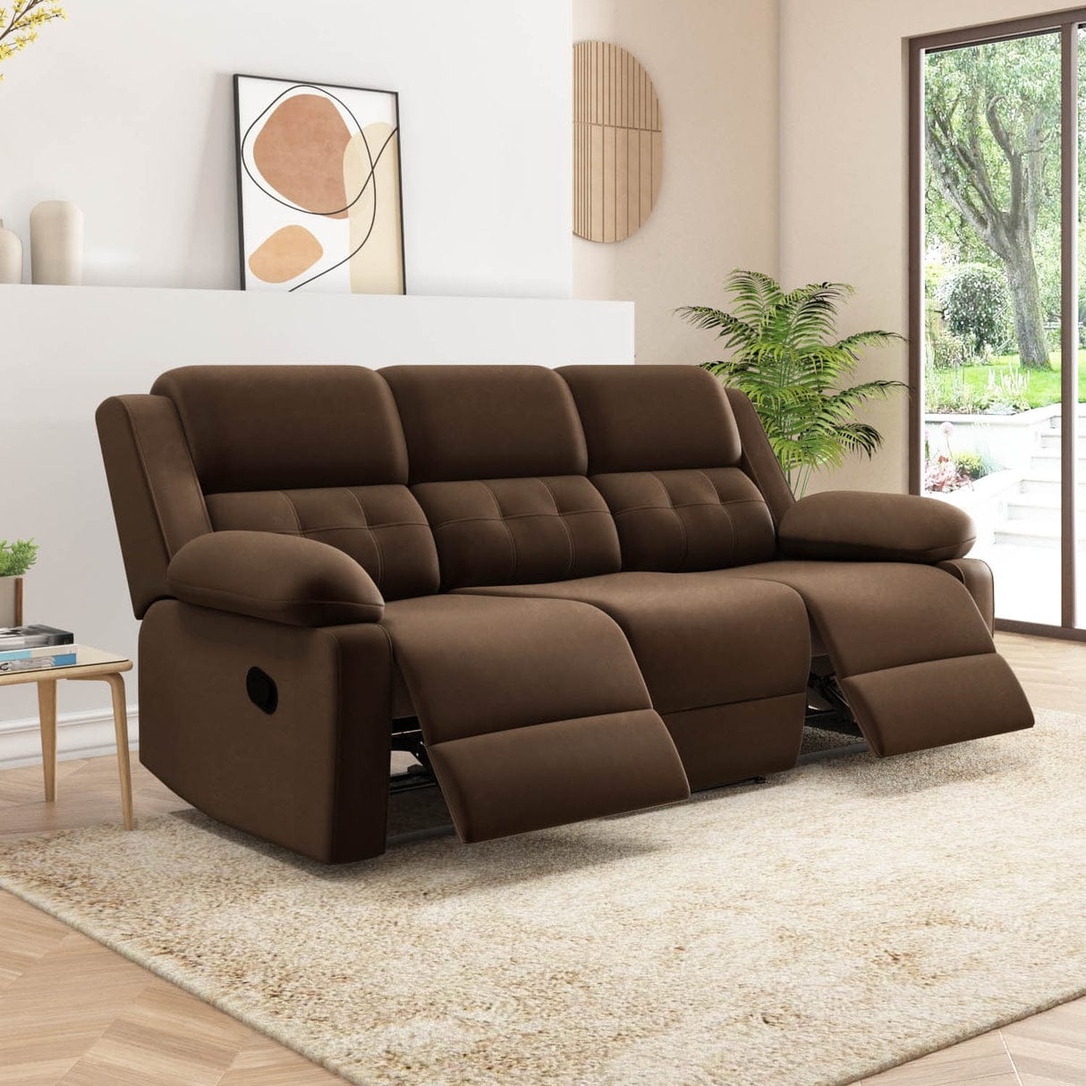3seatersofa: (97, 365, 1031, 862)
backrest: (153, 365, 774, 600)
leftarmrest: (727, 389, 975, 564)
leg: (140, 599, 392, 861), (938, 557, 994, 632)
rightarmrest: (96, 395, 383, 627)
seat: (383, 561, 1031, 839)
